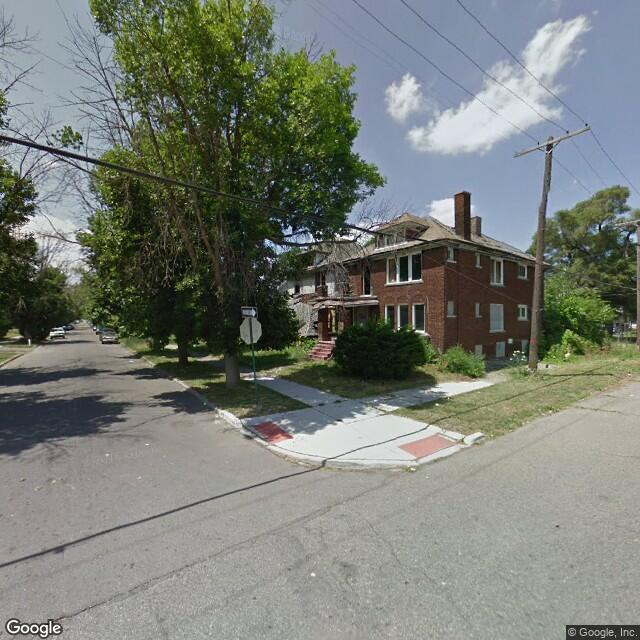litter: (432, 396, 447, 407), (212, 411, 219, 421), (407, 467, 414, 470)
